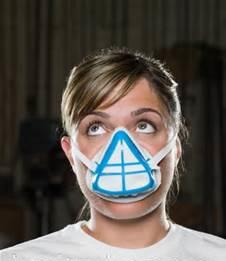WRONG: (65, 115, 170, 220)
